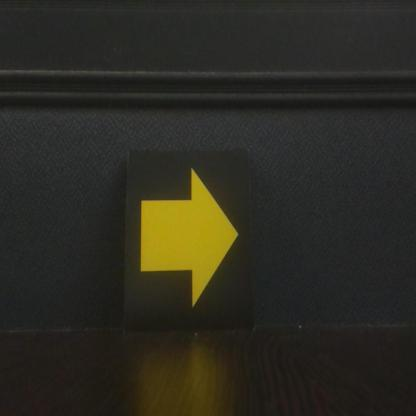right: (125, 150, 253, 329)
